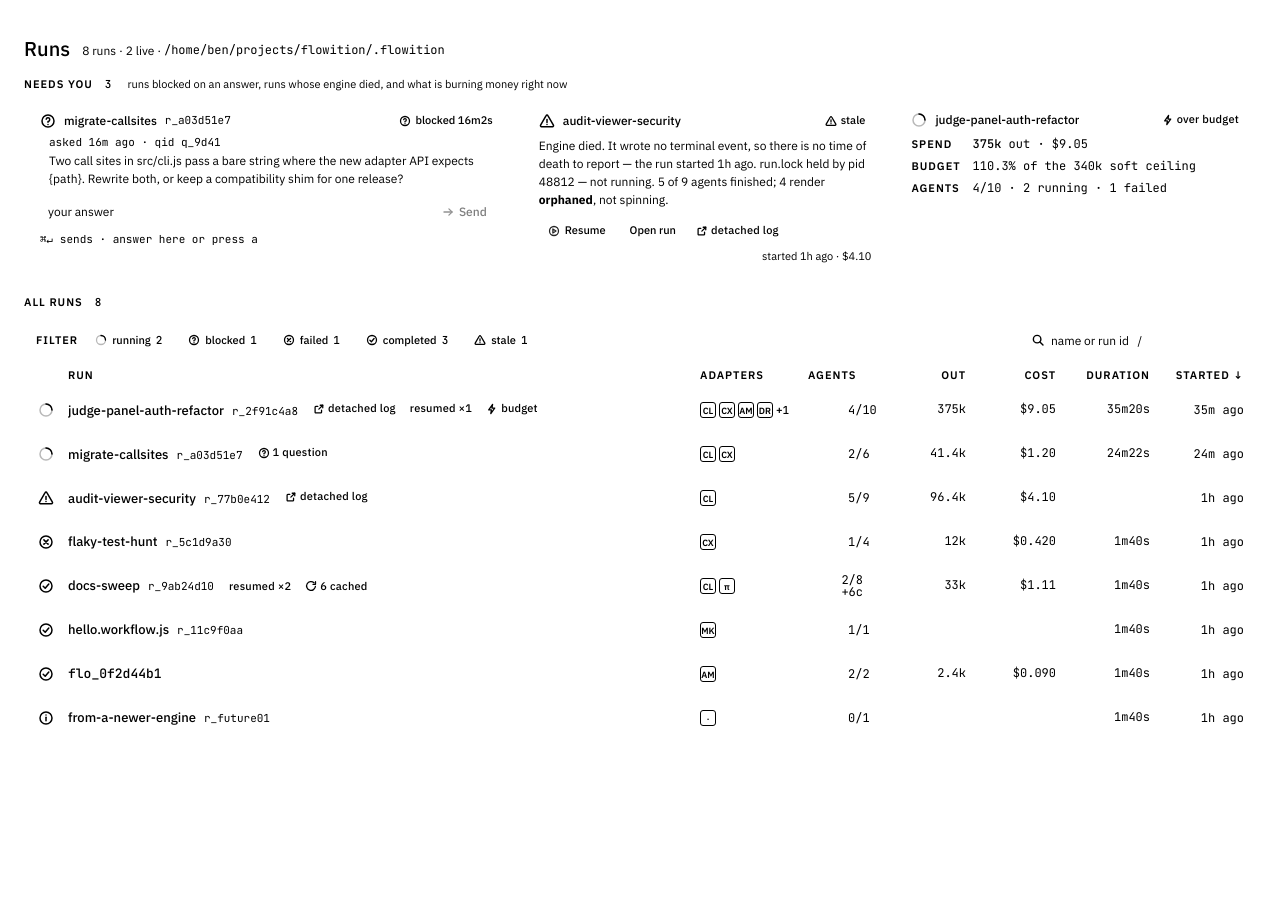
Test: §7.2 — Home’s write surfaces go through W12’s layer › maps a 409 on answer to "another operator answered first" and refreshes
Type "keep the shim" into the field named "Answer the question" at coordinates (232, 212), box left=40, top=198, right=424, bottom=226
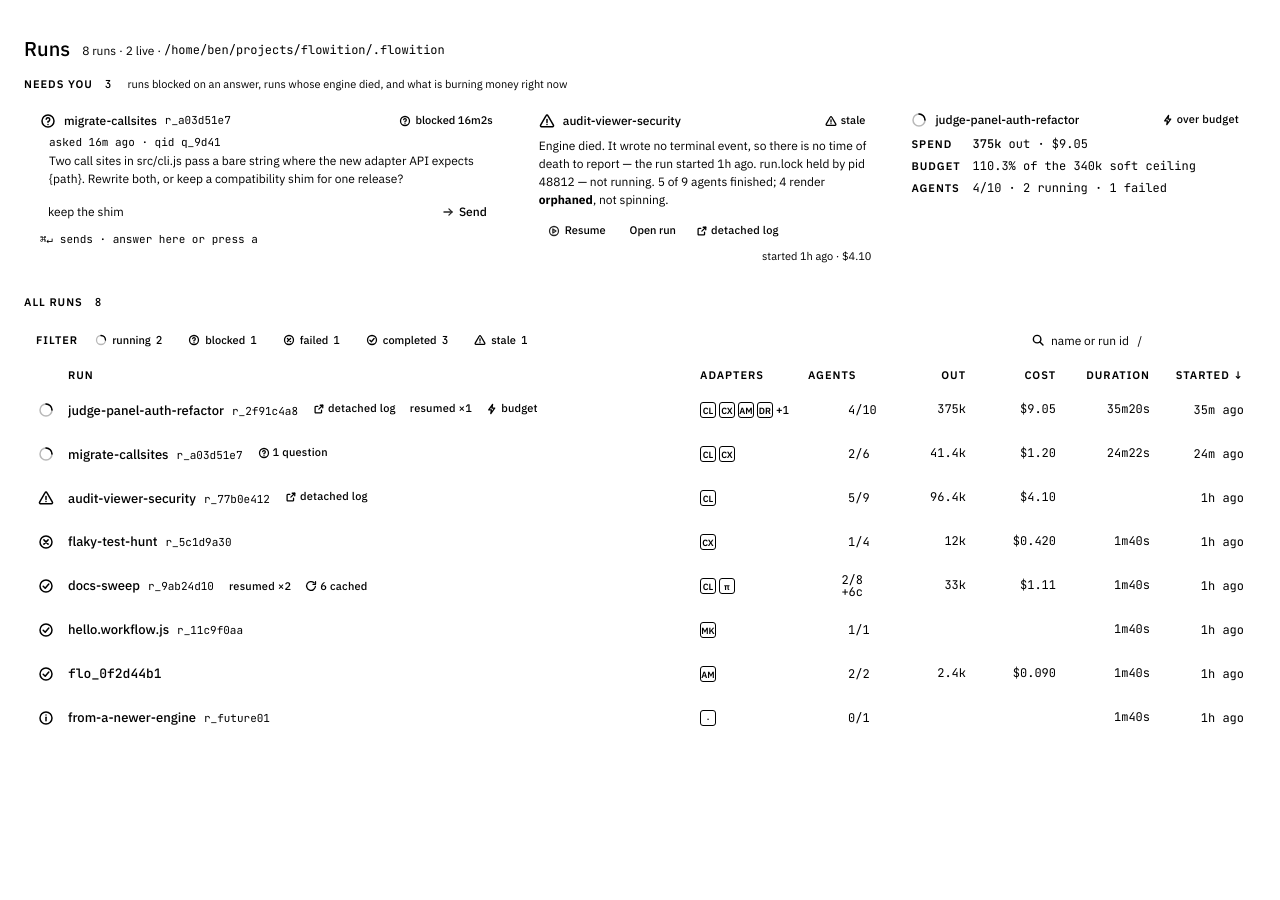
Click the button "Send" at coordinates (464, 212), box left=430, top=198, right=499, bottom=226
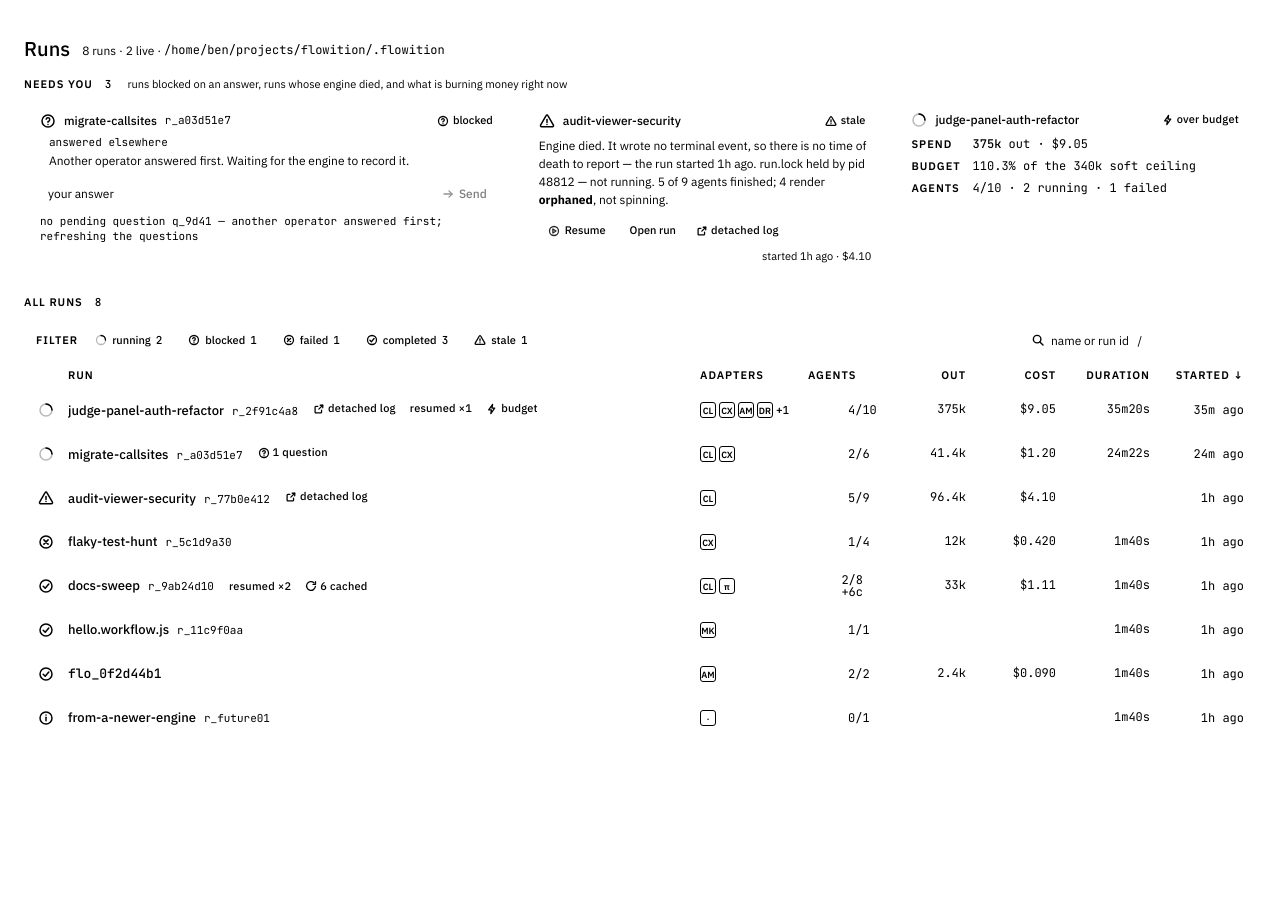
Expected: the text "another operator answered first" is shown, left=40, top=214, right=443, bottom=243
Expected: the text "answered elsewhere" is shown, left=49, top=135, right=168, bottom=149
